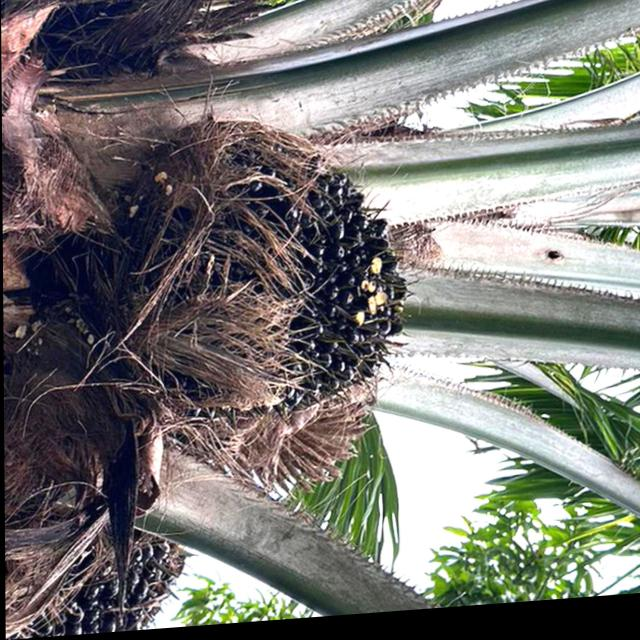unripe: (100, 114, 421, 447)
